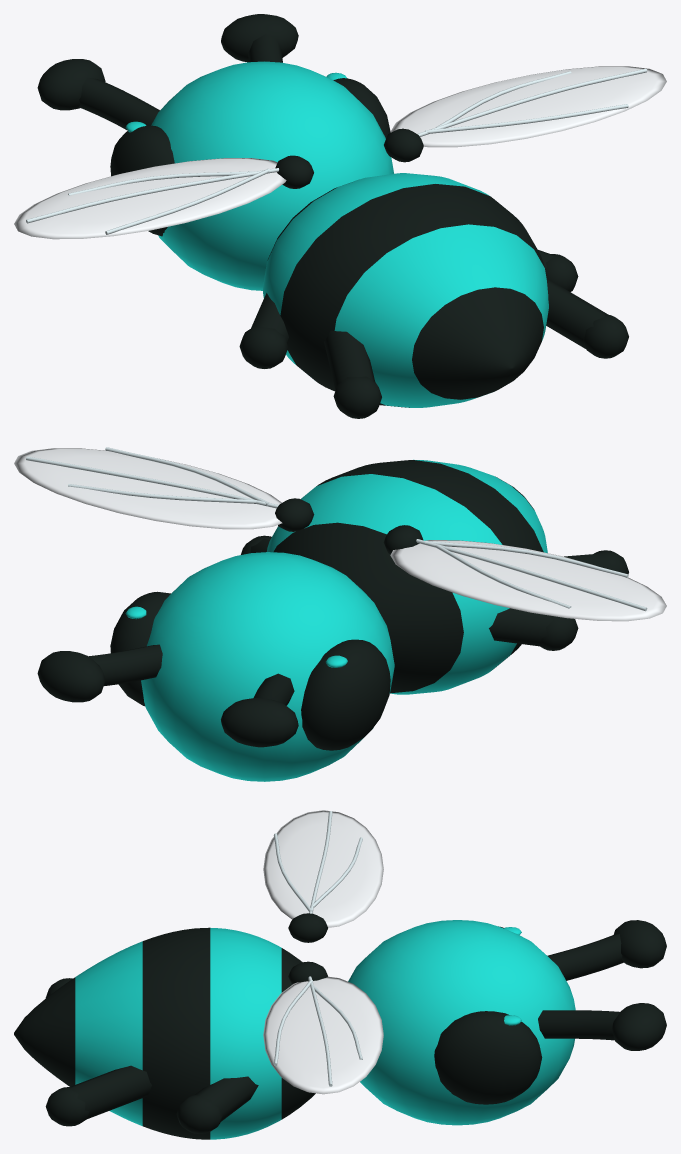
The model's file is Bee_Cyan.fbx.
3 renders of one model, top to bottom at view 1: azimuth 30°, elevation 25°; view 2: azimuth 150°, elevation 25°; view 3: azimuth 270°, elevation 25°, orthographic. The views are drawn at different scales.
Visible parts, largest first — view 1: Gameplay_Bee_Cyan_Color, Gameplay_Bee_Cyan_Dark, Gameplay_Bee_Cyan_LeftMembrane, Gameplay_Bee_Cyan_RightMembrane, Bee_Cyan_Grip_RightRear, Bee_Cyan_Grip_LeftRear, Bee_Cyan_Grip_LeftFront, Bee_Cyan_Grip_RightFront; view 2: Gameplay_Bee_Cyan_Color, Gameplay_Bee_Cyan_Dark, Gameplay_Bee_Cyan_LeftMembrane, Gameplay_Bee_Cyan_RightMembrane, Bee_Cyan_Grip_LeftFront, Bee_Cyan_Grip_LeftRear; view 3: Gameplay_Bee_Cyan_Color, Gameplay_Bee_Cyan_Dark, Gameplay_Bee_Cyan_RightMembrane, Gameplay_Bee_Cyan_LeftMembrane, Bee_Cyan_Grip_RightRear, Bee_Cyan_Grip_RightFront.
Boxes of the visible parts, x1,y1,x2,y2 form: Gameplay_Bee_Cyan_Color: [125, 61, 548, 407]; Gameplay_Bee_Cyan_Dark: [37, 14, 544, 407]; Gameplay_Bee_Cyan_LeftMembrane: [14, 158, 286, 239]; Gameplay_Bee_Cyan_RightMembrane: [390, 66, 666, 147]; Bee_Cyan_Grip_RightRear: [546, 278, 628, 358]; Bee_Cyan_Grip_LeftRear: [324, 330, 381, 418]; Bee_Cyan_Grip_LeftFront: [239, 293, 288, 368]; Bee_Cyan_Grip_RightFront: [538, 250, 578, 291]; Gameplay_Bee_Cyan_Color: [125, 459, 547, 781]; Gameplay_Bee_Cyan_Dark: [37, 460, 543, 750]; Gameplay_Bee_Cyan_LeftMembrane: [390, 539, 666, 621]; Gameplay_Bee_Cyan_RightMembrane: [14, 447, 282, 529]; Bee_Cyan_Grip_LeftFront: [489, 608, 578, 650]; Bee_Cyan_Grip_LeftRear: [564, 550, 628, 574]; Gameplay_Bee_Cyan_Color: [75, 920, 575, 1139]; Gameplay_Bee_Cyan_Dark: [14, 913, 666, 1139]; Gameplay_Bee_Cyan_RightMembrane: [263, 976, 383, 1094]; Gameplay_Bee_Cyan_LeftMembrane: [263, 810, 383, 927]; Bee_Cyan_Grip_RightRear: [45, 1065, 151, 1126]; Bee_Cyan_Grip_RightFront: [176, 1076, 258, 1133].
Bounding box in the file's own units: 329 × 104 × 320.
